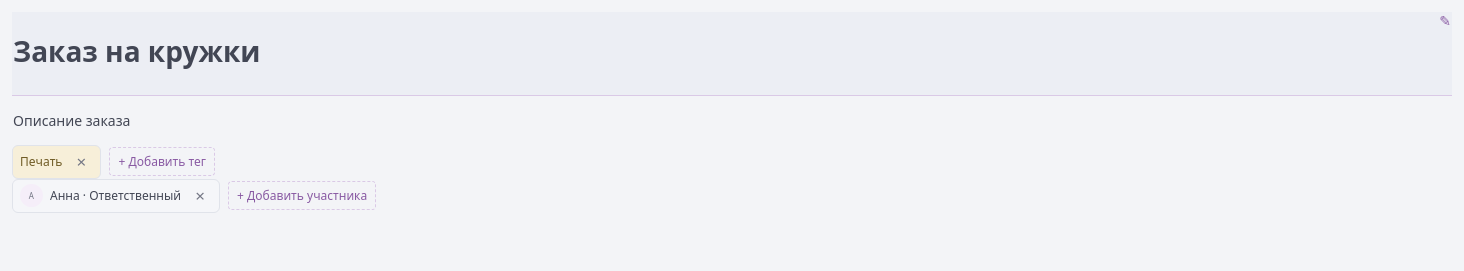
Test: saves only the clicked field and returns to its normal presentation
The image size is (1464, 271).
Click the heading "Заказ на кружки".
click(137, 51)  # box top-left (13, 32), bottom-right (260, 70)
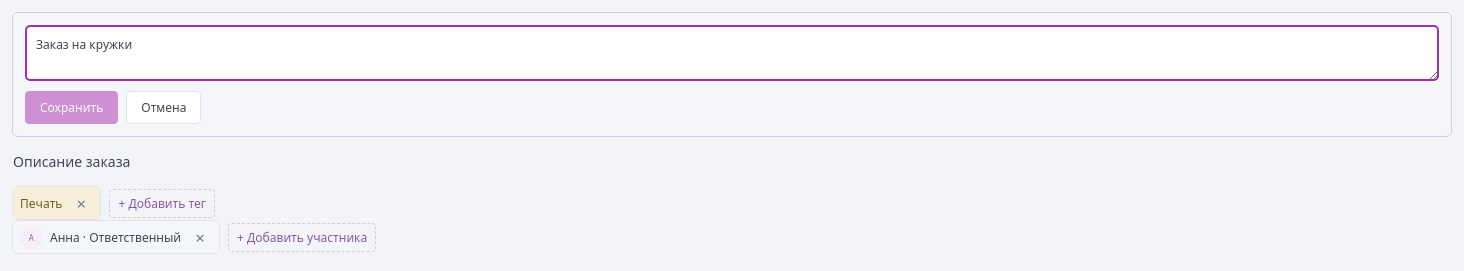
Clear the text box named "Название" at (732, 53), box top-left (25, 25), bottom-right (1439, 81)
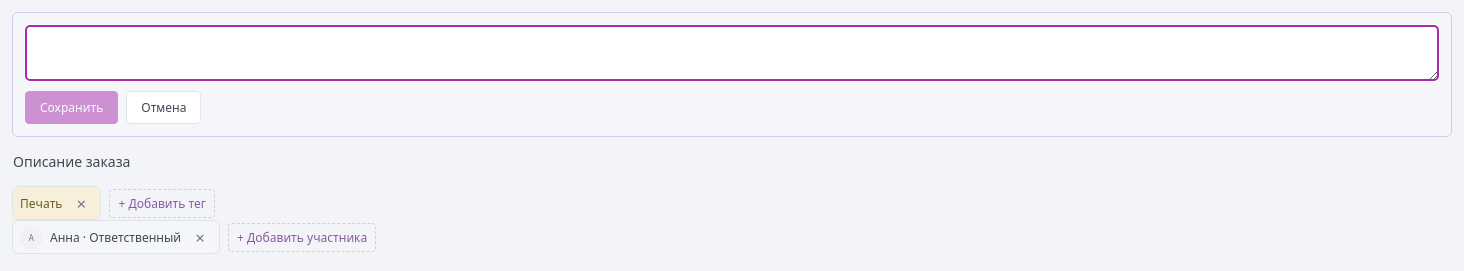
expect the button "Сохранить" is disabled: met, box top-left (25, 91), bottom-right (118, 124)
Type "Новое название" into the text box named "Название".
click(732, 53); type("Новое название")  # box top-left (25, 25), bottom-right (1439, 81)
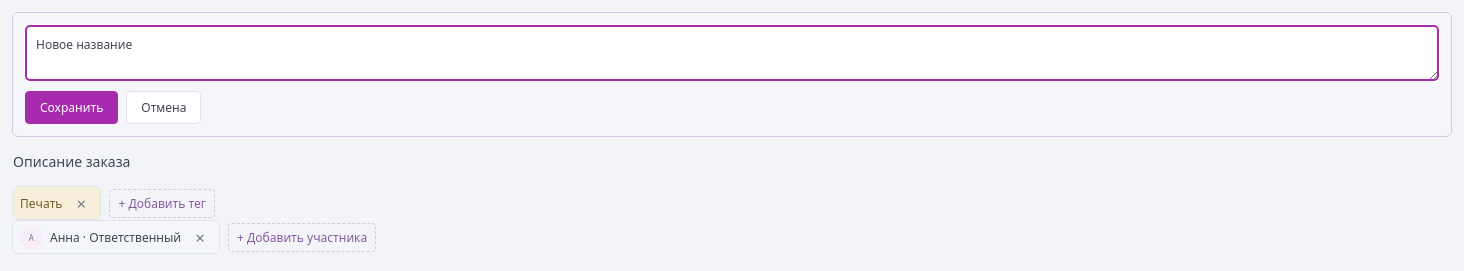
Click the button "Сохранить".
click(72, 108)  # box top-left (25, 91), bottom-right (118, 124)
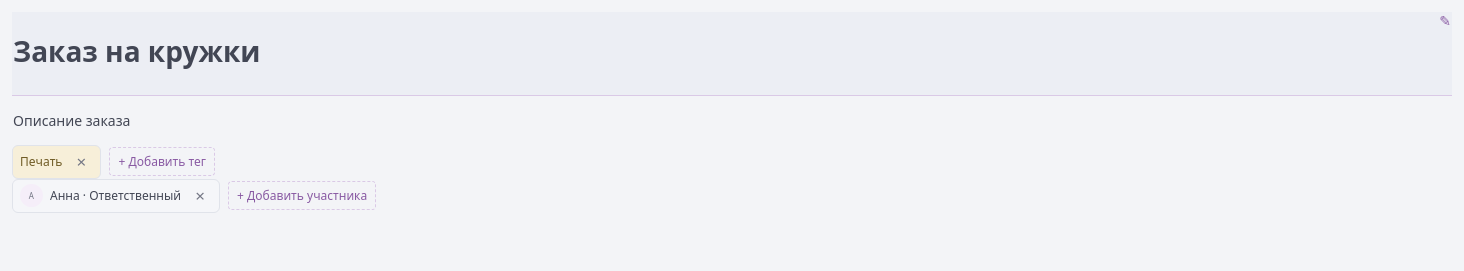
expect the text box labelled "Название" is gone: met
